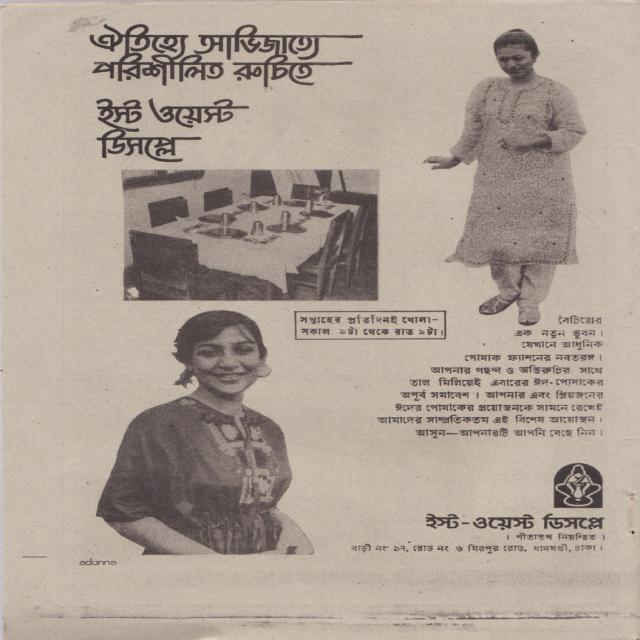advertisement: (54, 18, 610, 554)
text: (76, 558, 119, 565)
